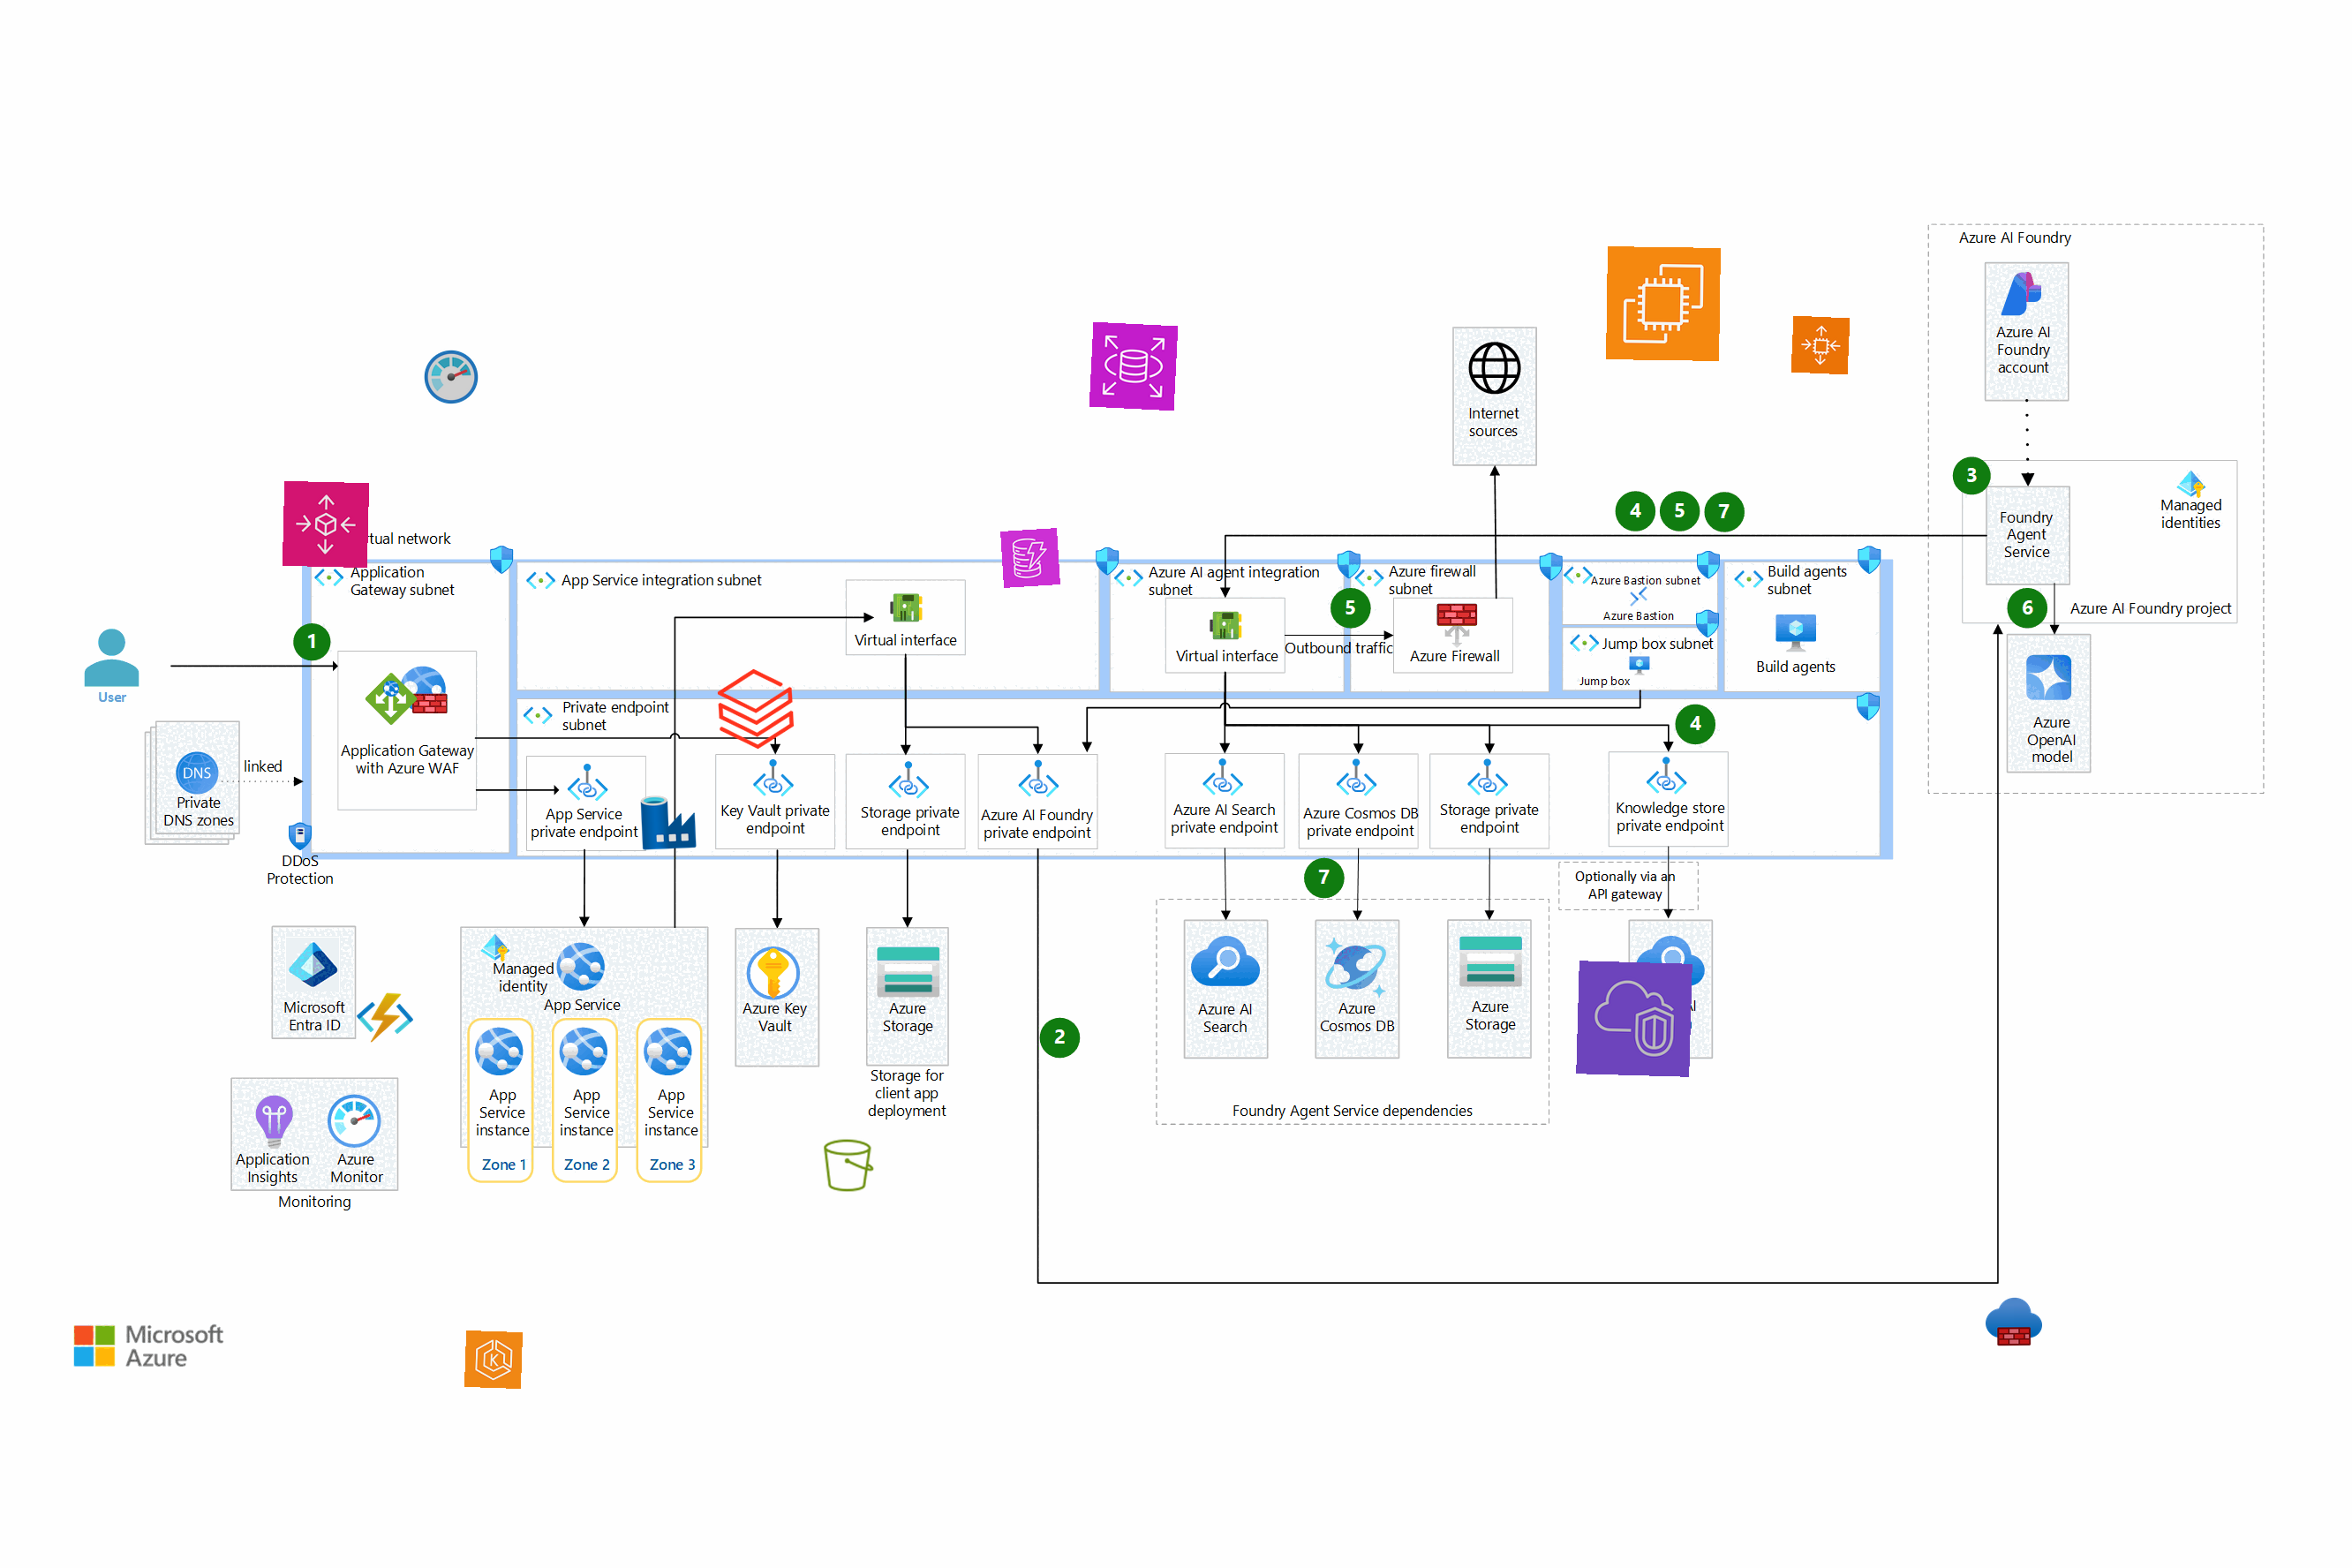aws_amazon_dynamodb: (1001, 528, 1060, 588)
aws_amazon_ec2: (1606, 247, 1720, 360)
aws_amazon_ec2_auto_scaling: (1790, 315, 1850, 374)
aws_amazon_elastic_kubernetes_service: (464, 1330, 523, 1389)
aws_amazon_rds: (1088, 322, 1179, 411)
aws_amazon_virtual_private_cloud: (1577, 961, 1692, 1076)
aws_auto_scaling: (282, 479, 369, 569)
aws_simple_storage_service_bucket: (819, 1136, 877, 1195)
azure_data_factories: (639, 793, 698, 852)
azure_databricks: (710, 663, 801, 754)
azure_firewalls: (1984, 1293, 2042, 1351)
azure_function_apps: (355, 989, 415, 1048)
azure_monitor: (422, 348, 479, 406)
